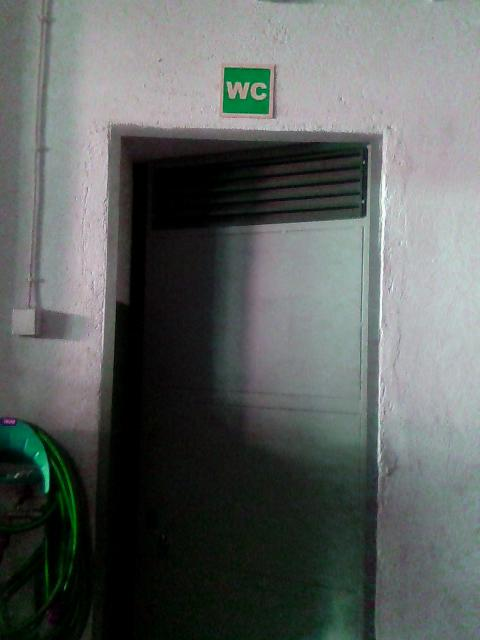closed_door: (129, 143, 376, 638)
